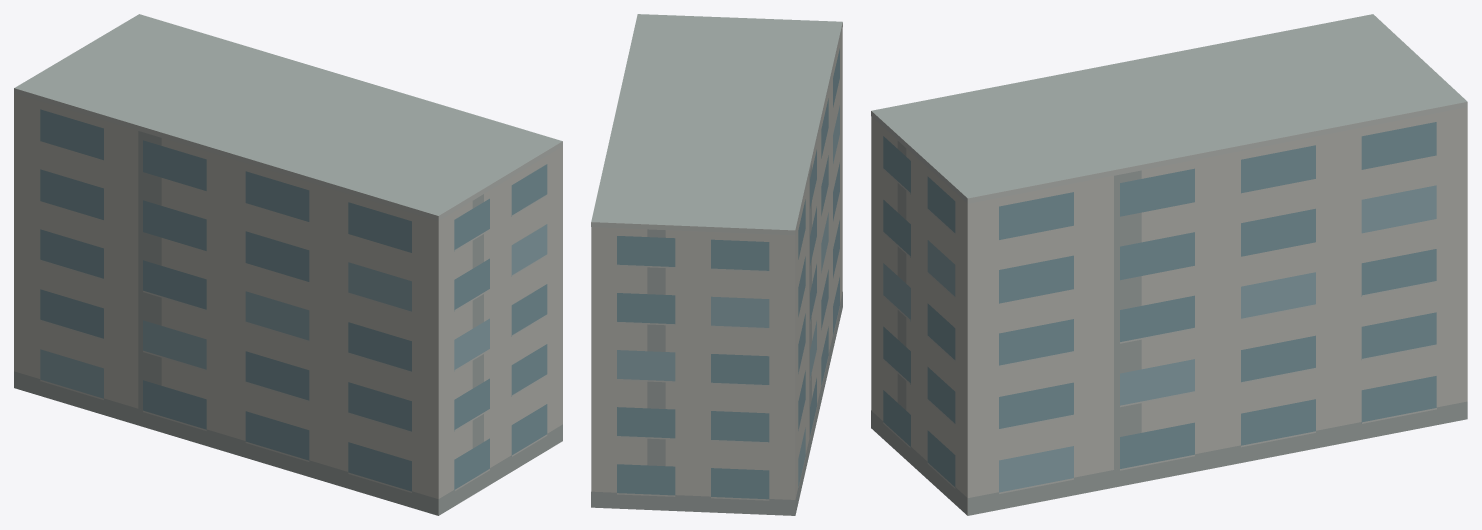
File: survey-upis-32698869.glb
3 views of the same model, side by side, from view 1: azimuth 30°, elevation 25°; view 2: azimuth 150°, elevation 25°; view 3: azimuth 270°, elevation 25° (orthographic). The views are drawn at different scales.
Parts seen in each view (by area): view 1: survey-upis-32698869.tmp; view 2: survey-upis-32698869.tmp; view 3: survey-upis-32698869.tmp.
Part boxes in pixels (box(x1,y1,x2,y2)): survey-upis-32698869.tmp: box(14, 14, 562, 515); survey-upis-32698869.tmp: box(591, 14, 842, 515); survey-upis-32698869.tmp: box(871, 14, 1467, 515).
Bounding box in the file's own units: 17.27 × 13.85 × 23.6.
